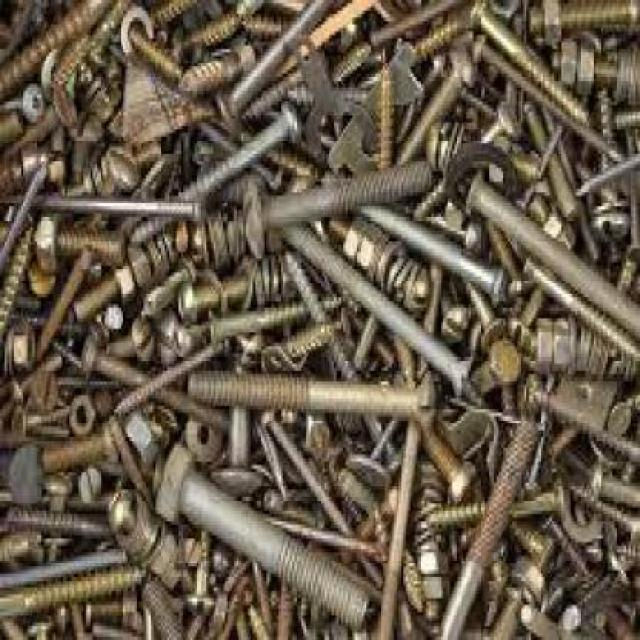METAL: (0, 0, 638, 637), (151, 440, 371, 637), (271, 224, 471, 391), (461, 168, 637, 343), (282, 245, 400, 469), (260, 406, 386, 588), (435, 412, 534, 637), (239, 154, 432, 258), (471, 31, 618, 160), (79, 328, 227, 444), (519, 252, 638, 378), (67, 221, 211, 325), (360, 202, 508, 301), (218, 0, 344, 115), (468, 0, 584, 123), (183, 364, 439, 419), (518, 251, 638, 367), (0, 0, 117, 112), (538, 507, 638, 636), (172, 98, 299, 199), (519, 371, 638, 472), (327, 39, 418, 168), (325, 210, 426, 315), (70, 224, 178, 322), (0, 559, 142, 633), (106, 482, 196, 598), (110, 335, 228, 423), (177, 256, 315, 318), (399, 44, 470, 164), (264, 511, 388, 574), (425, 479, 563, 535), (543, 101, 594, 252), (0, 548, 126, 609), (526, 314, 636, 378), (0, 196, 197, 227), (264, 514, 388, 563), (413, 451, 445, 623), (522, 99, 570, 210), (446, 136, 517, 210), (518, 0, 638, 43), (211, 402, 260, 500), (42, 472, 72, 632), (171, 0, 262, 52), (42, 420, 113, 486), (31, 210, 120, 262), (487, 556, 542, 636), (363, 0, 463, 43), (0, 220, 32, 353), (573, 147, 638, 210), (0, 504, 109, 538), (408, 7, 466, 70), (128, 24, 180, 88), (473, 336, 519, 406), (555, 371, 616, 423), (468, 332, 520, 388), (375, 45, 397, 168), (550, 52, 615, 91), (142, 521, 182, 584), (516, 602, 586, 636), (123, 406, 160, 468), (182, 413, 224, 465), (0, 141, 37, 199), (436, 280, 466, 346), (119, 4, 152, 59), (105, 140, 138, 192), (0, 528, 42, 567), (253, 556, 272, 636), (399, 542, 418, 612), (241, 11, 290, 38), (38, 45, 62, 98), (75, 464, 102, 510), (619, 42, 638, 104), (342, 213, 366, 262), (354, 220, 378, 269), (274, 574, 292, 637), (413, 570, 447, 602), (603, 399, 637, 430), (376, 241, 398, 287), (413, 549, 447, 577), (19, 81, 44, 119), (540, 0, 560, 43), (536, 311, 552, 364), (552, 315, 568, 367), (557, 34, 572, 78), (246, 602, 265, 636), (576, 46, 590, 91), (47, 532, 71, 553), (123, 232, 137, 262), (606, 242, 620, 266)
